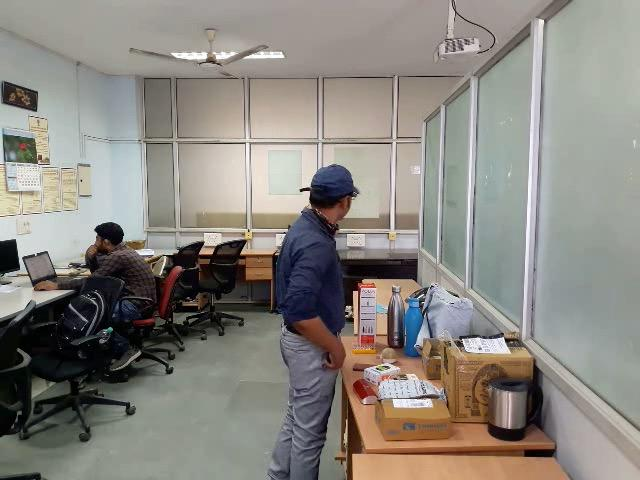shoplifting: (244, 295, 379, 431)
